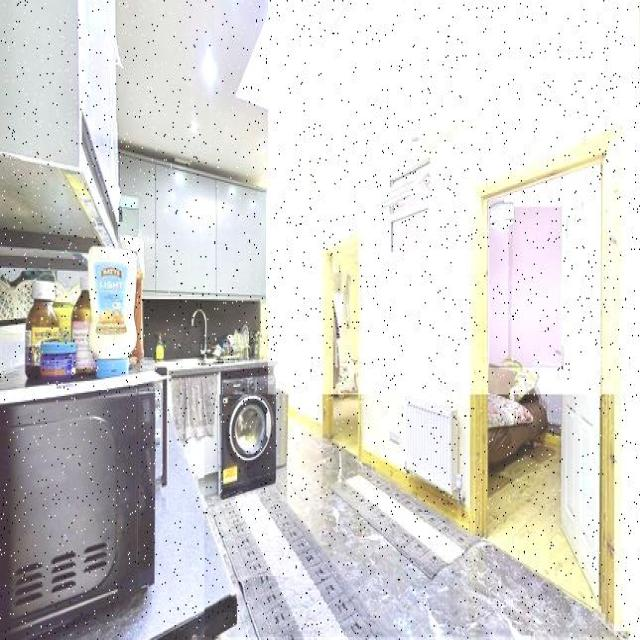Wall: (269, 0, 639, 631), (117, 0, 627, 235), (205, 395, 614, 637), (490, 200, 562, 368), (144, 299, 260, 360), (505, 170, 595, 207)
